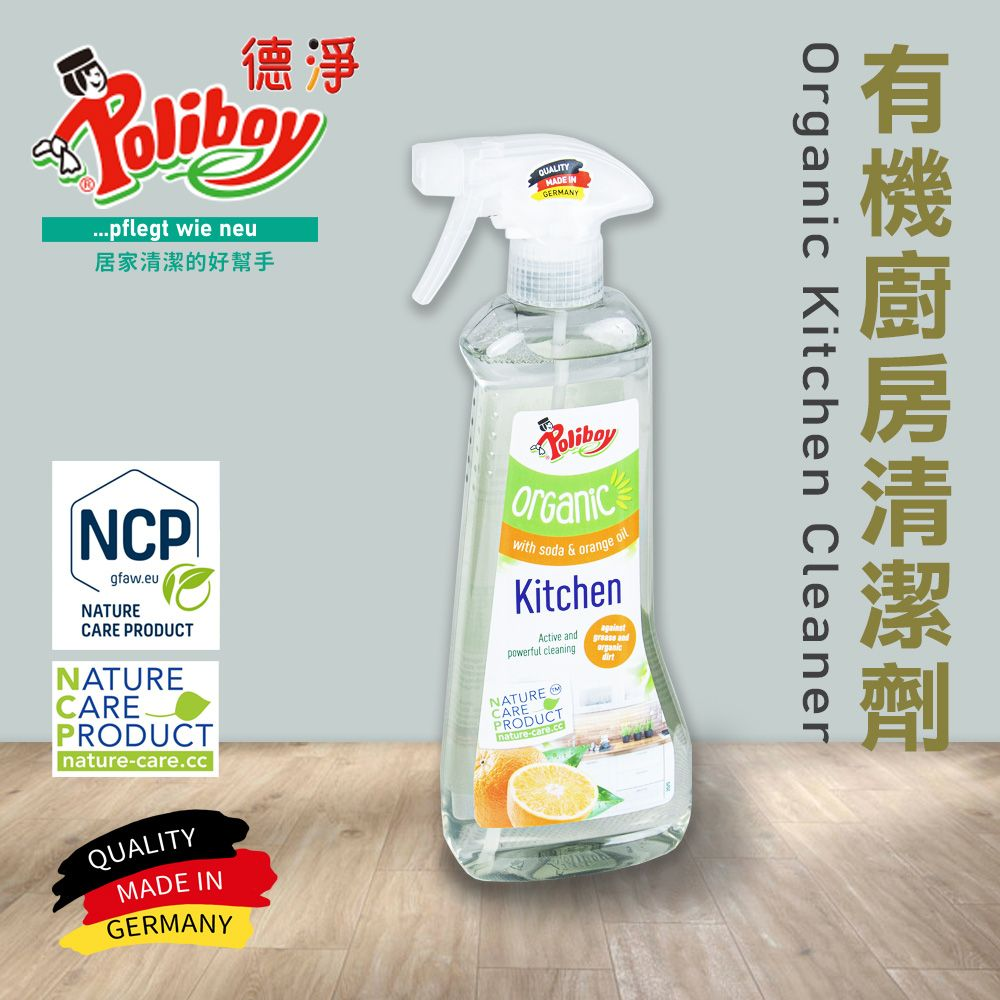cleaner: (373, 125, 714, 895)
